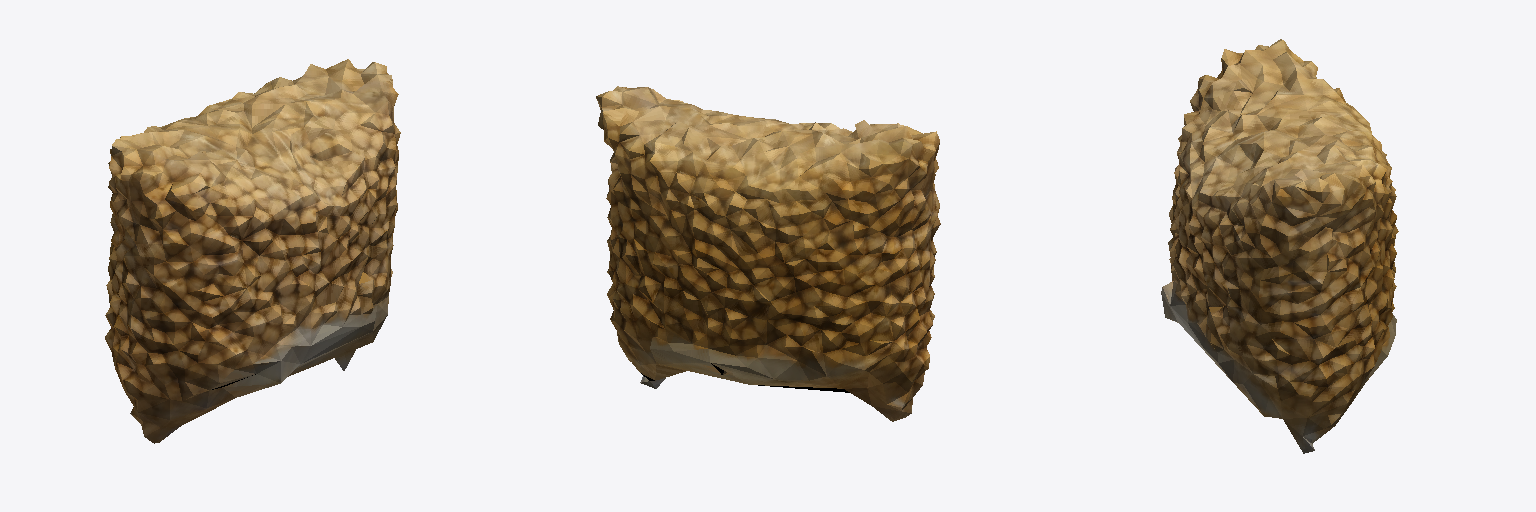
The picture shows the model from 3 angles: view 1: azimuth 30°, elevation 25°; view 2: azimuth 150°, elevation 25°; view 3: azimuth 270°, elevation 25°; orthographic projection.
Visible parts, largest first — view 1: chickpeas; view 2: chickpeas; view 3: chickpeas.
Part boxes in pixels (x1,y1,x2,y2): chickpeas: (105,59,400,443); chickpeas: (596,86,940,421); chickpeas: (1161,39,1398,453).
Bounding box in the file's own units: 1.48 × 1.39 × 1.01.
Materials: 1 (1 with a texture image).